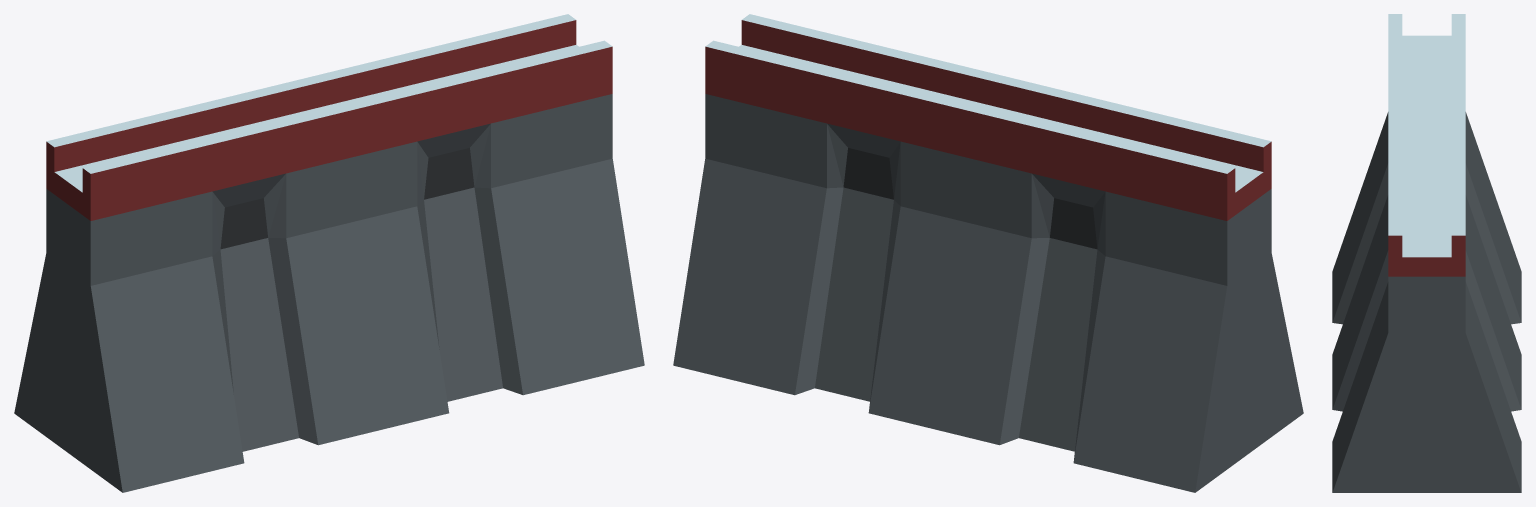
The model's file is SM_Bld_Pirate_Fort_02_Snow.fbx.
3 views of the same model, side by side, from view 1: azimuth 30°, elevation 25°; view 2: azimuth 150°, elevation 25°; view 3: azimuth 270°, elevation 25° (orthographic). The views are drawn at different scales.
Parts seen in each view (by area): view 1: SM_Bld_Pirate_Fort_02_Snow; view 2: SM_Bld_Pirate_Fort_02_Snow; view 3: SM_Bld_Pirate_Fort_02_Snow.
Part boxes in pixels (x1=…): SM_Bld_Pirate_Fort_02_Snow: x1=14, y1=14, x2=644, y2=492; SM_Bld_Pirate_Fort_02_Snow: x1=673, y1=14, x2=1303, y2=492; SM_Bld_Pirate_Fort_02_Snow: x1=1332, y1=14, x2=1521, y2=492.
Size of the model in its own units: 211 by 114 by 76.02.
Materials: 1 (1 with a texture image).
